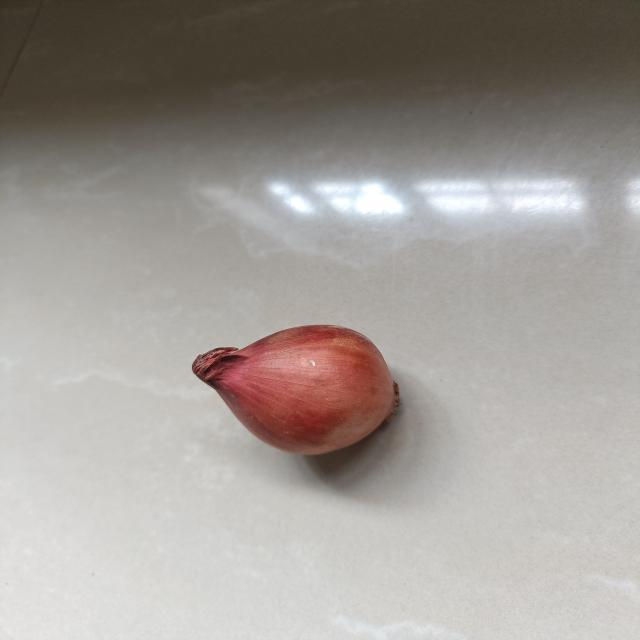onion: (182, 321, 409, 462)
